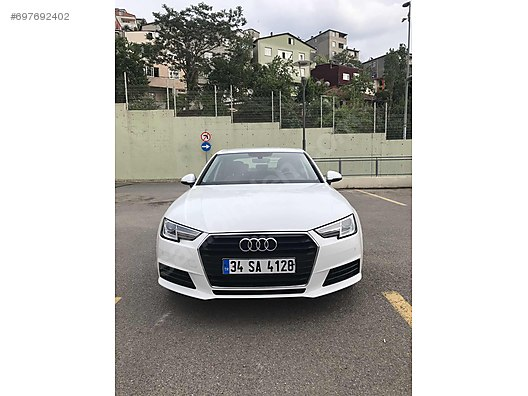audi: (232, 235, 281, 254)
